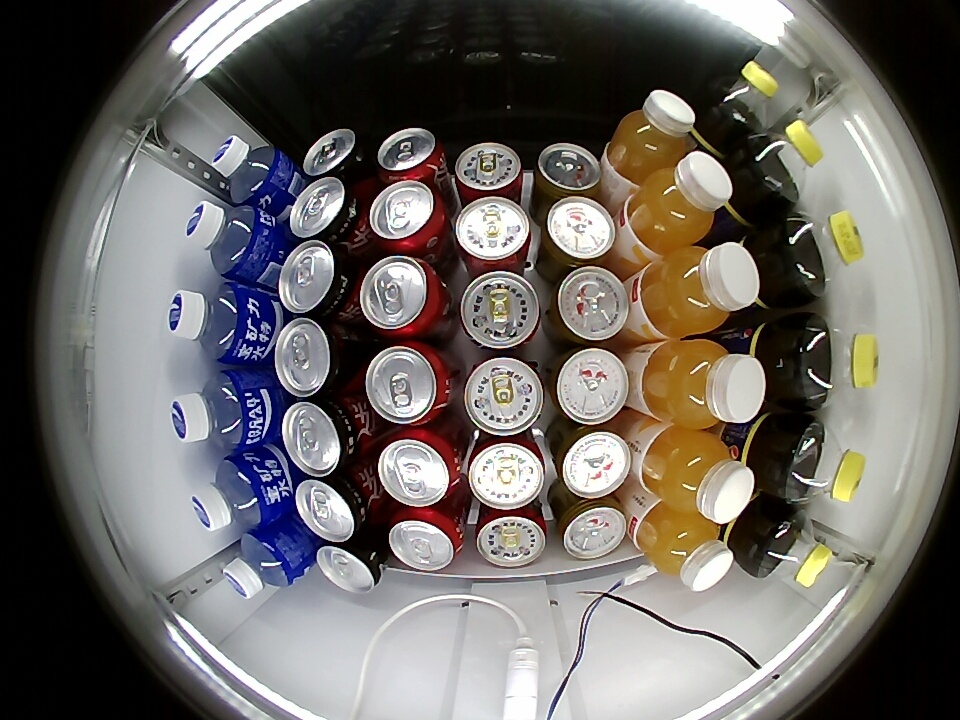baishikele: (778, 210, 866, 301), (798, 315, 879, 410), (780, 419, 867, 505), (742, 120, 824, 204), (753, 511, 834, 587), (702, 60, 780, 136)
baokuangli: (170, 369, 261, 450), (167, 284, 256, 364), (185, 199, 270, 280), (190, 454, 278, 531), (222, 527, 306, 600), (210, 135, 291, 209)
hongniu2: (545, 266, 630, 345), (546, 346, 630, 425), (552, 423, 632, 499), (540, 196, 616, 268), (555, 496, 628, 560), (534, 142, 603, 200)
kele: (365, 341, 451, 425), (359, 255, 444, 338), (377, 427, 461, 507), (369, 180, 445, 253), (388, 508, 464, 572), (375, 128, 445, 182)
lingdukele: (273, 318, 356, 397), (282, 397, 363, 477), (278, 241, 357, 319), (294, 470, 372, 542), (289, 177, 365, 245), (316, 535, 387, 594), (303, 128, 370, 184)
wangzainiunai: (458, 271, 542, 351), (463, 356, 544, 437), (468, 430, 546, 510), (454, 196, 531, 276), (474, 501, 548, 568), (452, 142, 524, 204)
weic: (639, 242, 761, 338), (640, 427, 756, 523), (626, 151, 733, 254), (642, 339, 766, 427), (633, 501, 734, 591), (607, 90, 697, 184)
